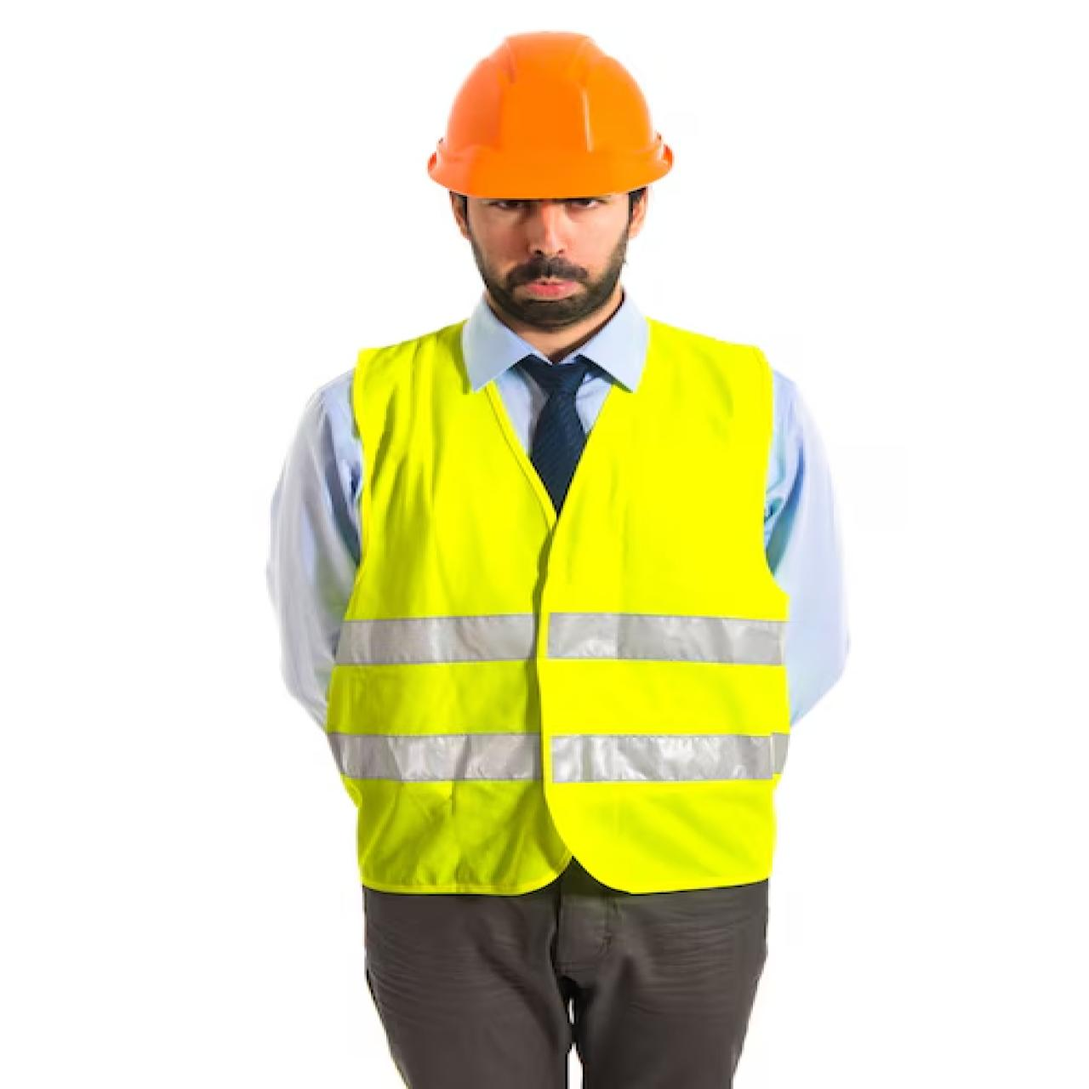Person: (208, 4, 856, 1073)
Safety_Vest: (332, 312, 778, 898)
